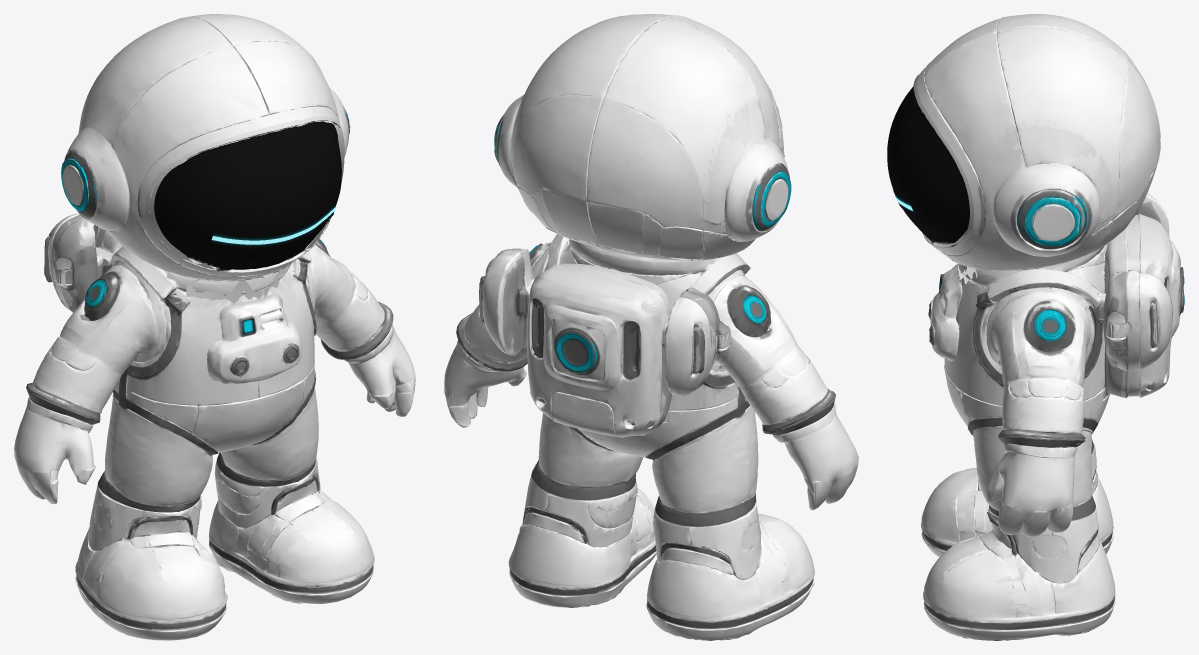
Rendered from nexo-raw.glb.
3 views of the same model, side by side, from view 1: azimuth 30°, elevation 25°; view 2: azimuth 150°, elevation 25°; view 3: azimuth 270°, elevation 25° (orthographic). The views are drawn at different scales.
Visible parts, largest first — view 1: tripo_node_bbe6ad9d-a236-4c97-b011-82094a7a55ee; view 2: tripo_node_bbe6ad9d-a236-4c97-b011-82094a7a55ee; view 3: tripo_node_bbe6ad9d-a236-4c97-b011-82094a7a55ee.
Boxes of the visible parts, x1,y1,x2,y2 form: tripo_node_bbe6ad9d-a236-4c97-b011-82094a7a55ee: [14, 14, 415, 640]; tripo_node_bbe6ad9d-a236-4c97-b011-82094a7a55ee: [444, 14, 858, 640]; tripo_node_bbe6ad9d-a236-4c97-b011-82094a7a55ee: [887, 14, 1184, 640].
Size of the model in its own units: 1.17 by 1.6 by 0.774.
1 material, 1 textured.
